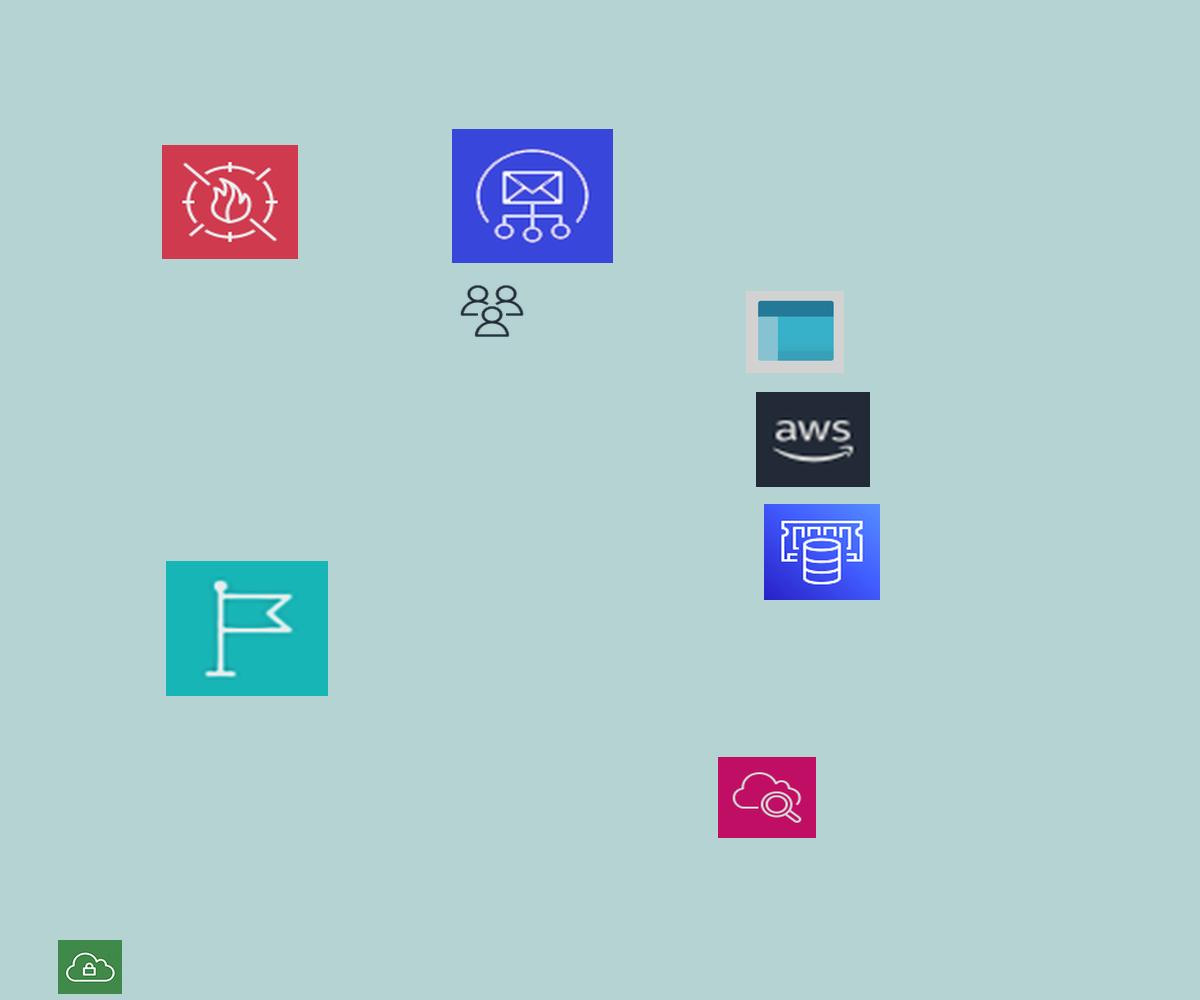AWS-Cloud-logo: (756, 392, 870, 487)
AWS-CloudWatch: (718, 757, 816, 838)
AWS-ElastiCache: (764, 504, 880, 600)
AWS-Private_vpc: (58, 940, 122, 994)
AWS-Region: (166, 561, 328, 696)
AWS-Res_Users: (458, 283, 526, 339)
AWS-Simple-Email-Service: (452, 129, 613, 263)
AWS-WAF: (162, 145, 298, 259)
Azure_management-portal: (746, 291, 844, 373)
